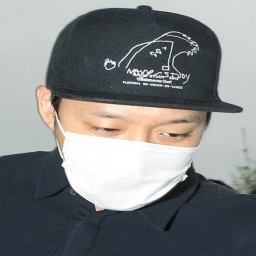correctlyWear: (35, 77, 207, 212)
